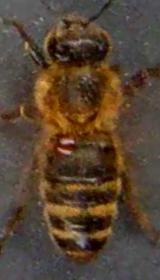varroa_mite: (54, 132, 81, 153)
